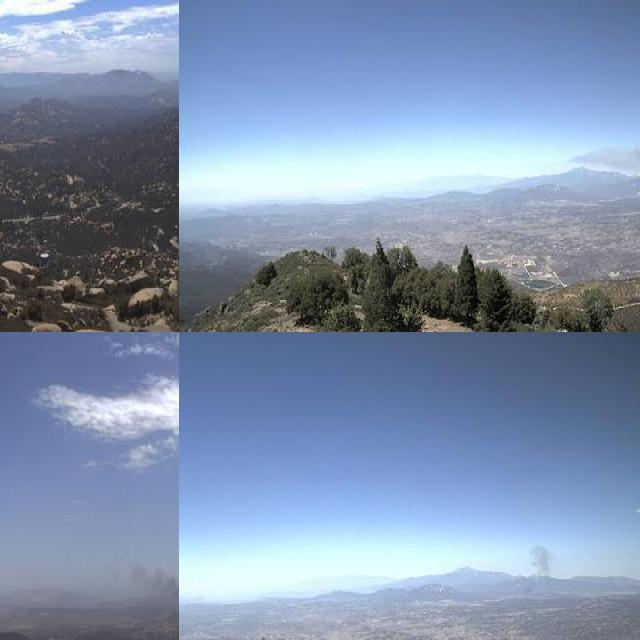smoke: (567, 131, 640, 201), (122, 554, 179, 625), (523, 539, 557, 592)
